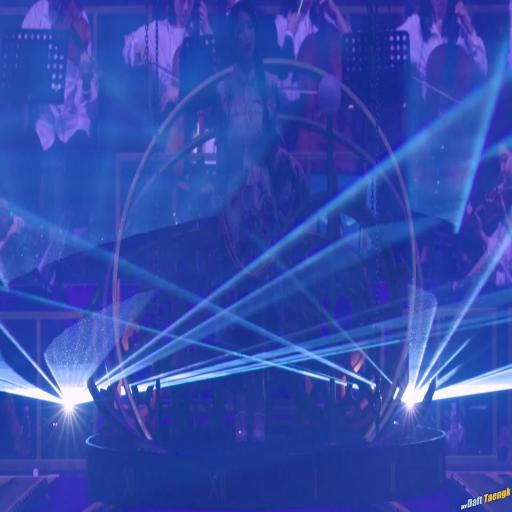IU: (228, 2, 257, 66)
